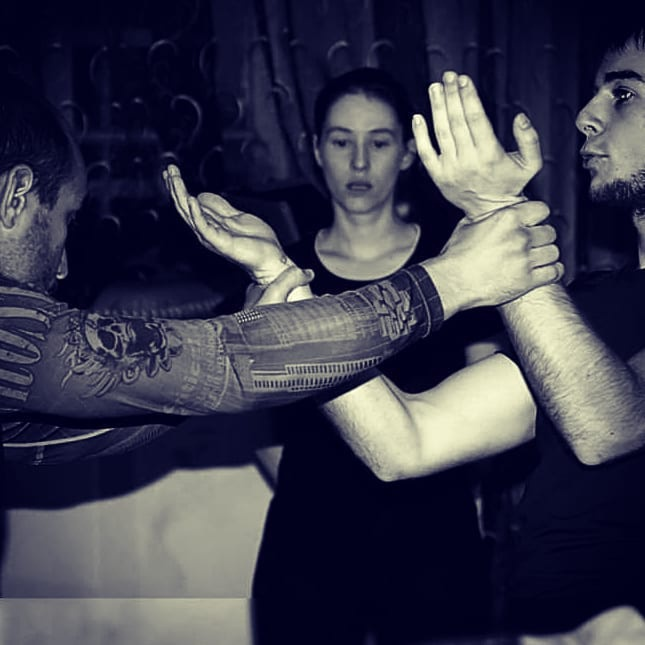hand: (428, 203, 557, 289)
